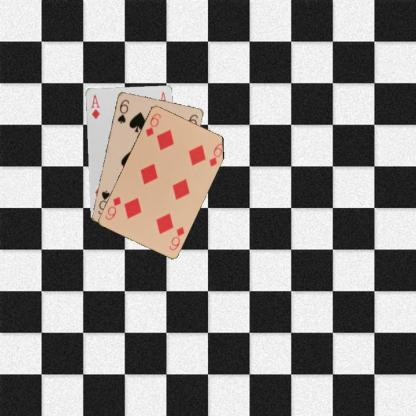6d: (166, 224, 186, 251), (142, 110, 161, 138)
6s: (114, 96, 130, 125)
Ad: (88, 92, 101, 120)
